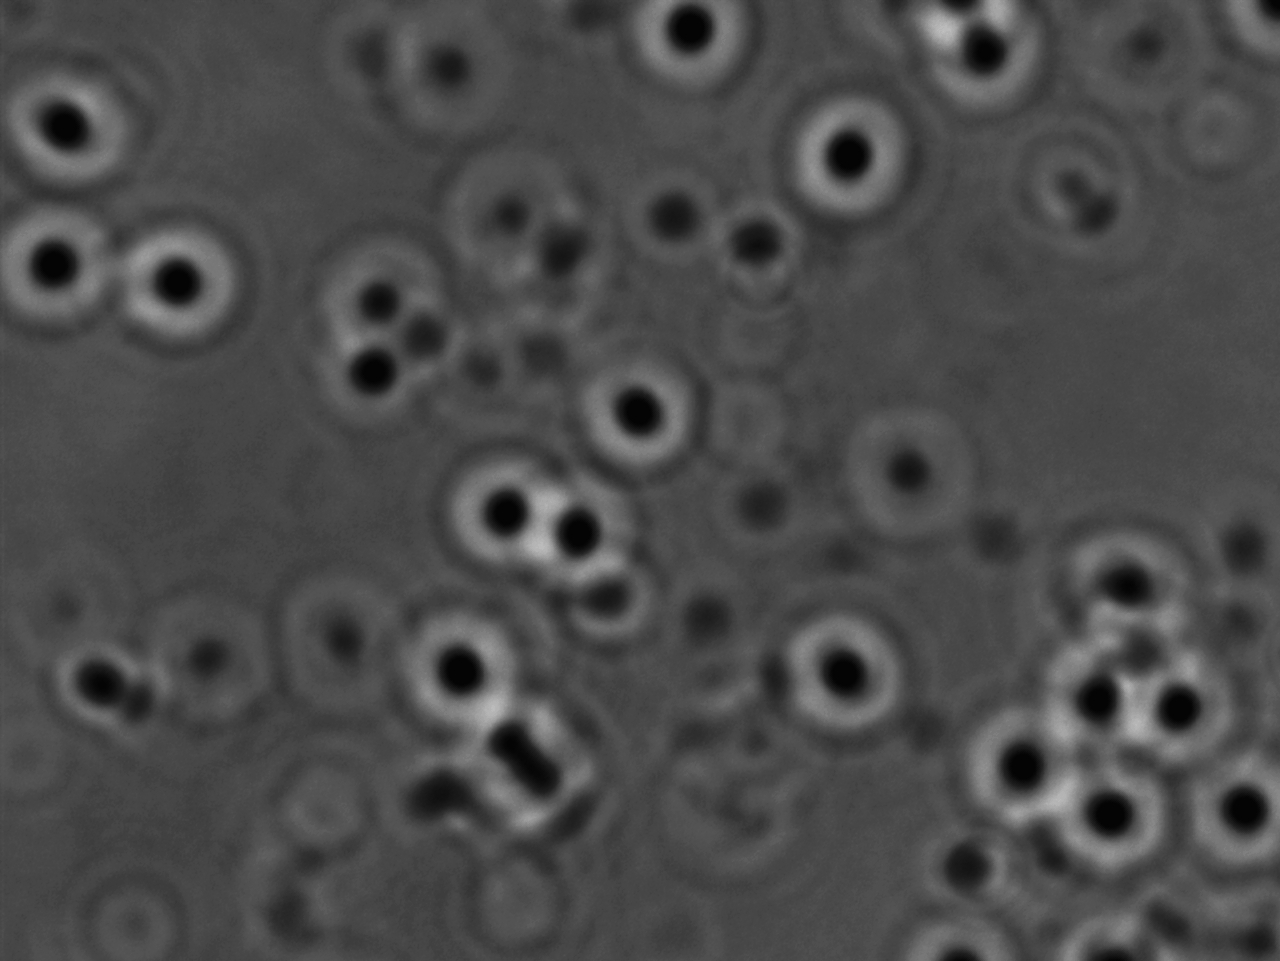depth:-32: (380, 584, 541, 746), (1043, 507, 1209, 647), (1031, 736, 1177, 891), (773, 599, 916, 749), (1097, 636, 1244, 779), (943, 682, 1085, 826), (438, 433, 577, 579), (106, 212, 247, 351), (1158, 731, 1280, 891), (525, 469, 667, 606), (1025, 609, 1160, 746), (3, 66, 140, 197), (776, 83, 911, 216), (566, 355, 700, 480)
